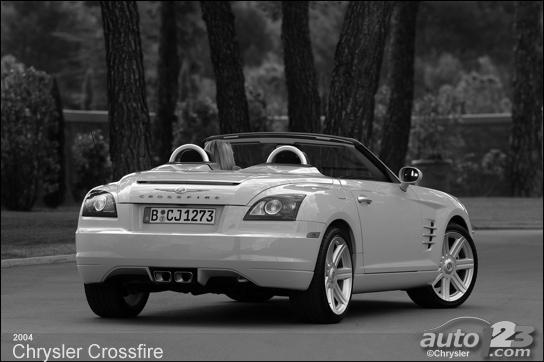car: (77, 129, 475, 316)
